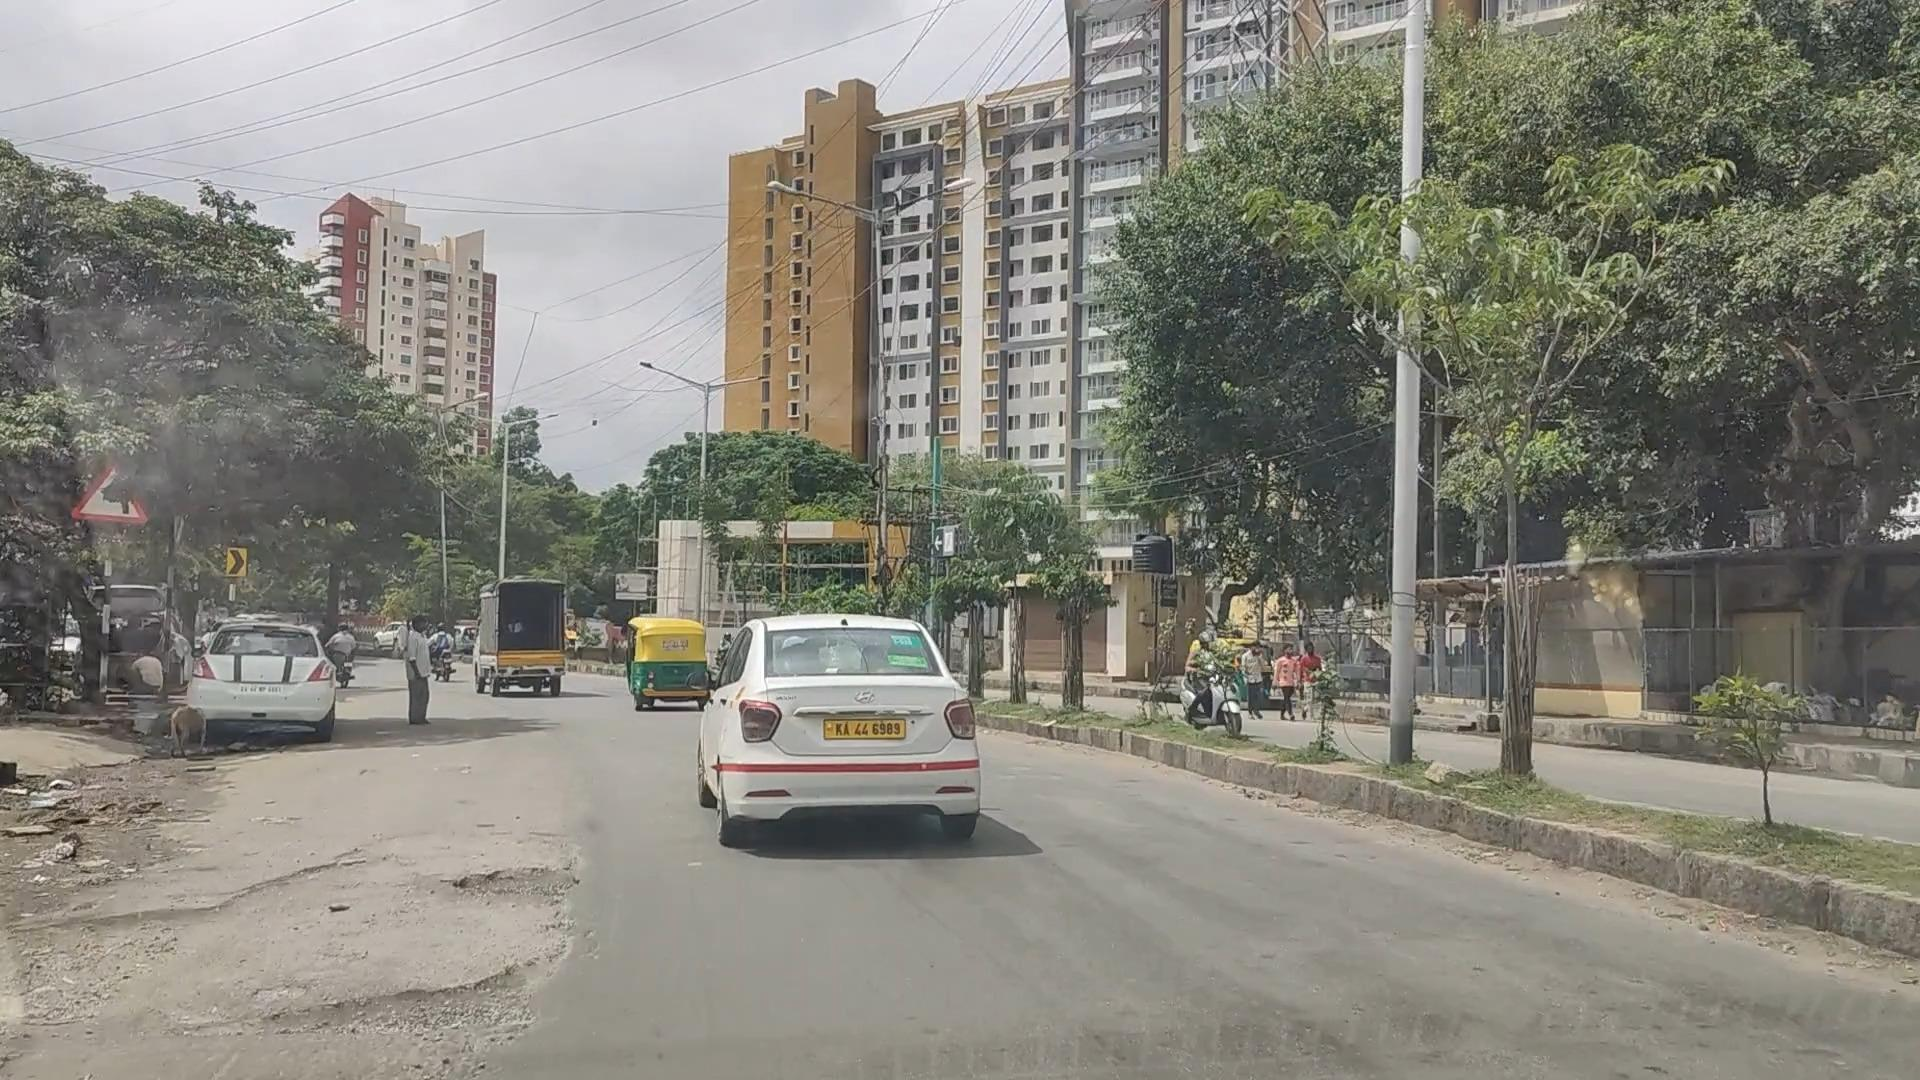LMV: (707, 630, 976, 837)
RoadDamages: (84, 827, 543, 1068)
